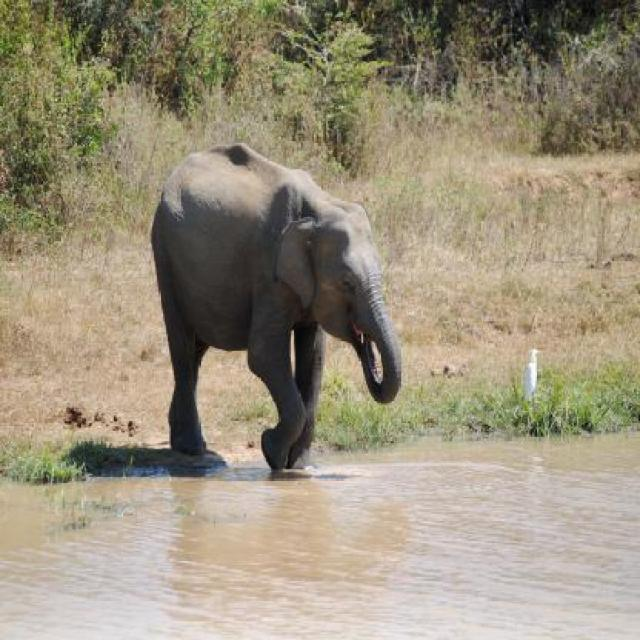Elephant: (140, 141, 411, 485)
